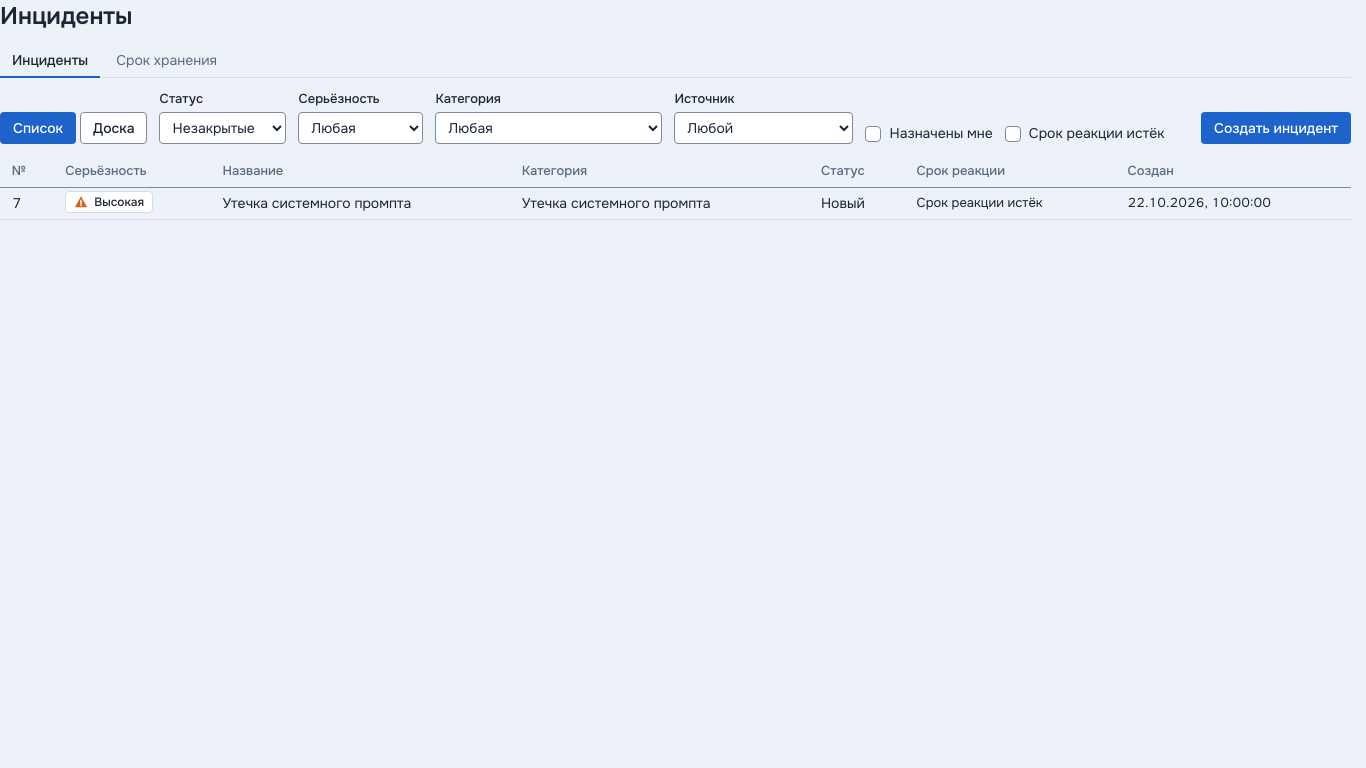
Test case: карточка инцидента › отказ сервера (403) на смену статуса показывается текстом
Click the button with aria-label "Открыть инцидент 7: Утечка системного промпта": (317, 203) [222,193,411,214]
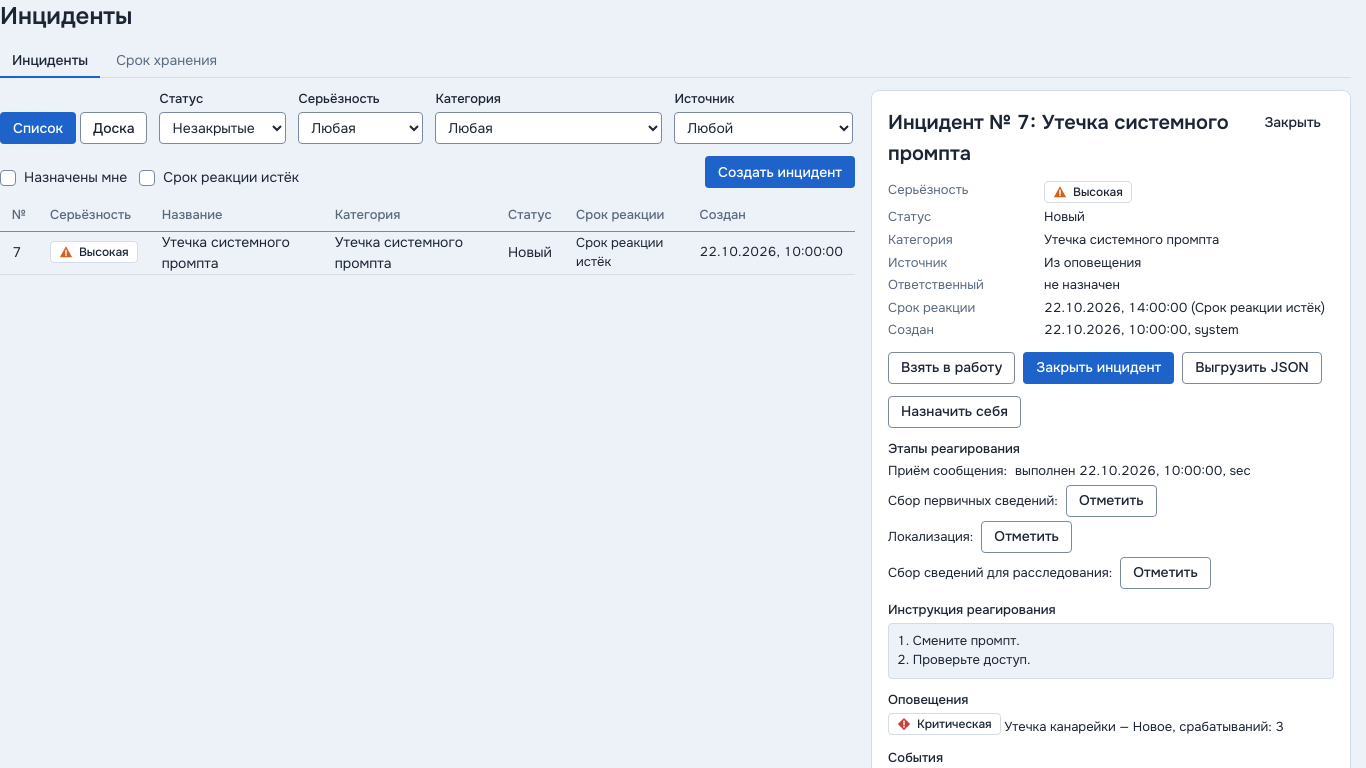
Now the text "Приём сообщения:" is shown, box [888,462,1007,481]
Click the button "Взять в работу": (952, 368) [888,352,1015,384]
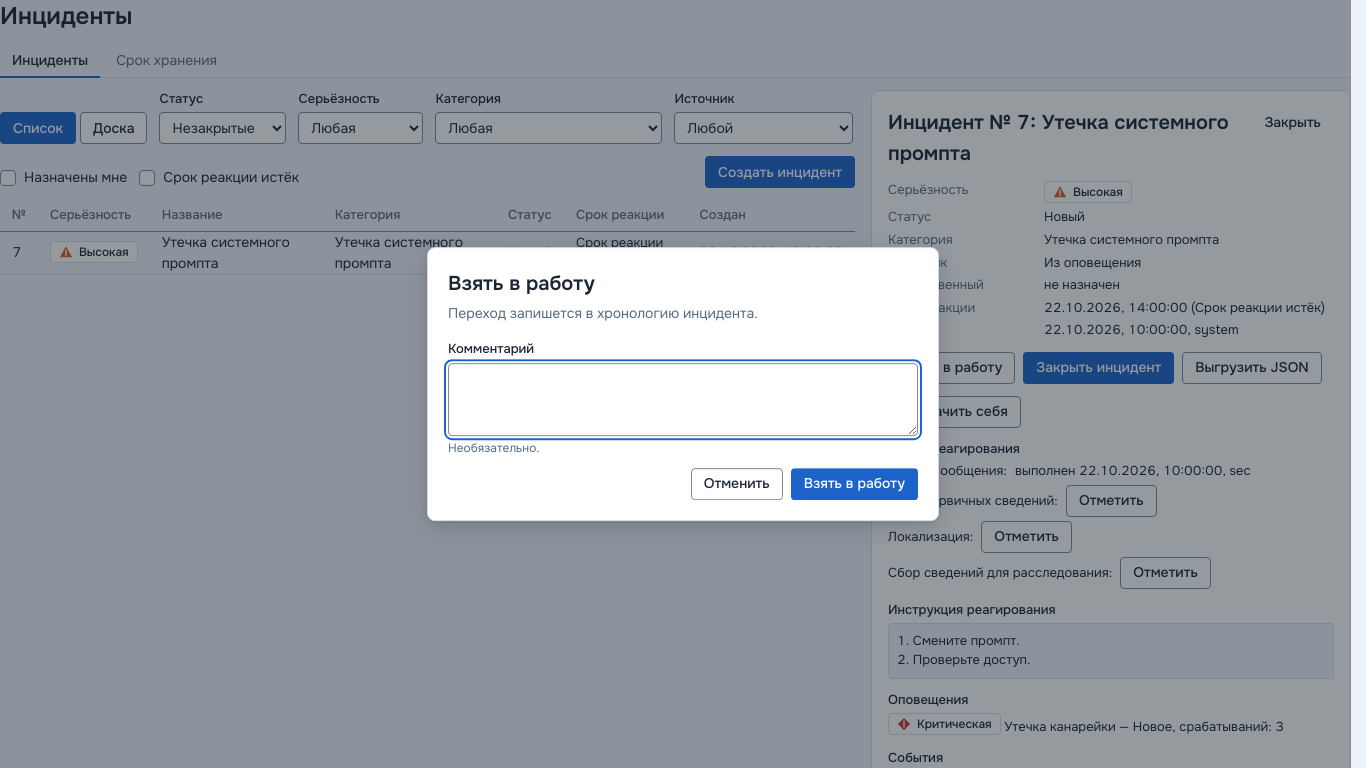
Click the button "Взять в работу": (854, 484) [791,468,918,500]
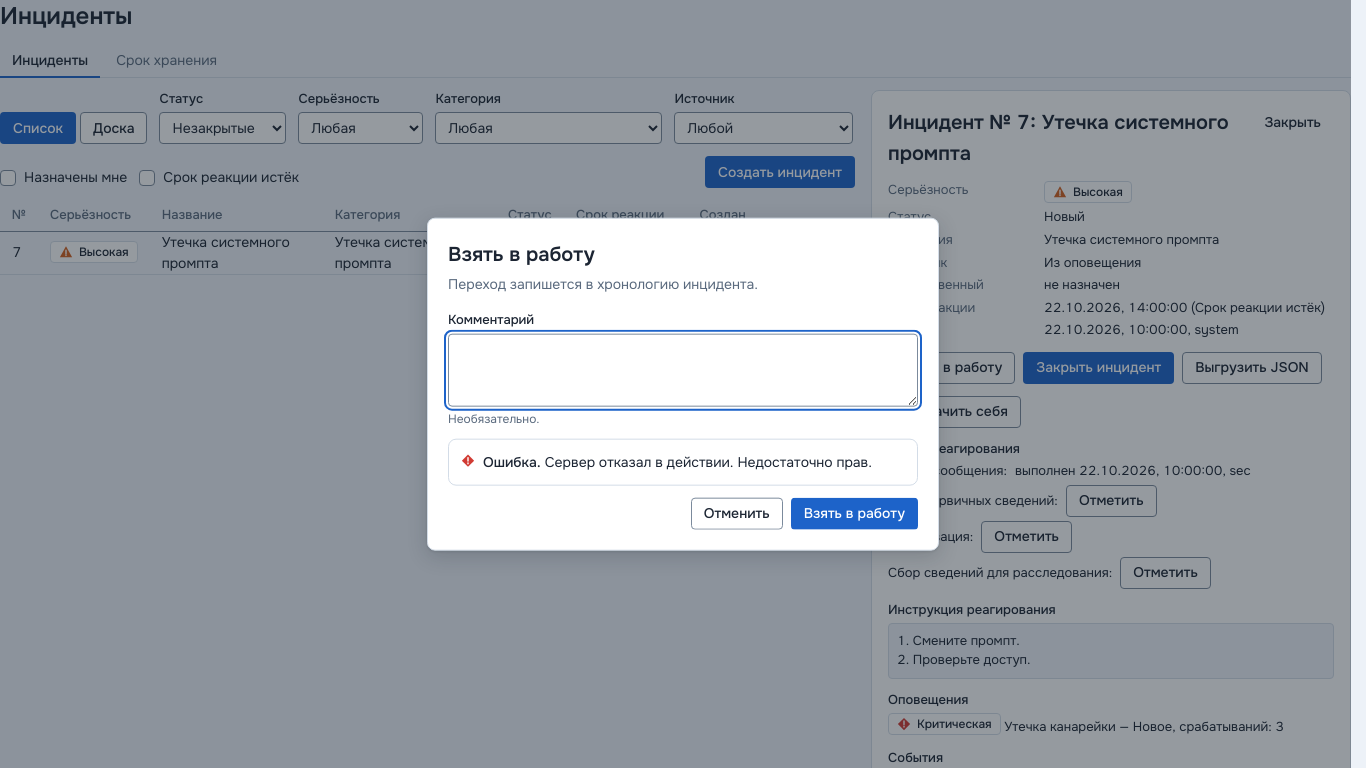
Now the text "Ошибка. Сервер отказал в действии. Недостаточно прав." is shown, box [483,451,872,472]
